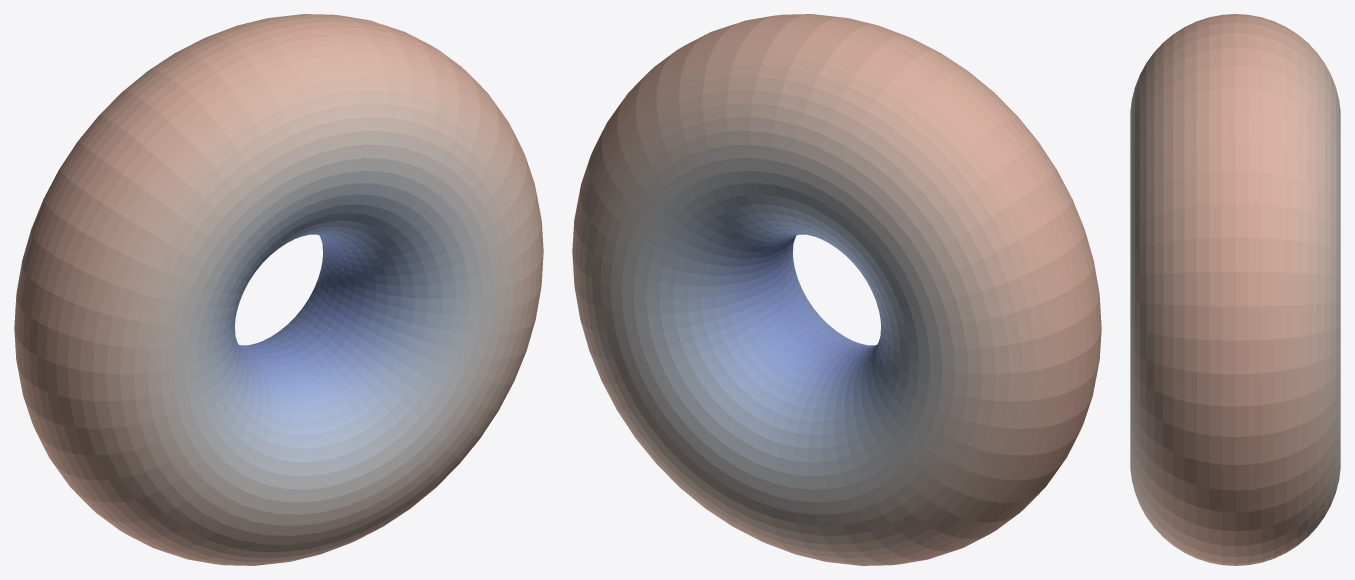
3 views of the same model, side by side, from view 1: azimuth 30°, elevation 25°; view 2: azimuth 150°, elevation 25°; view 3: azimuth 270°, elevation 25° (orthographic). The views are drawn at different scales.
Visible parts, largest first — view 1: world; view 2: world; view 3: world.
Part boxes in pixels (x1=…): world: x1=14, y1=14, x2=543, y2=565; world: x1=572, y1=14, x2=1101, y2=565; world: x1=1130, y1=14, x2=1340, y2=565.
Bounding box in the file's own units: 22.67 × 22.62 × 8.65.
